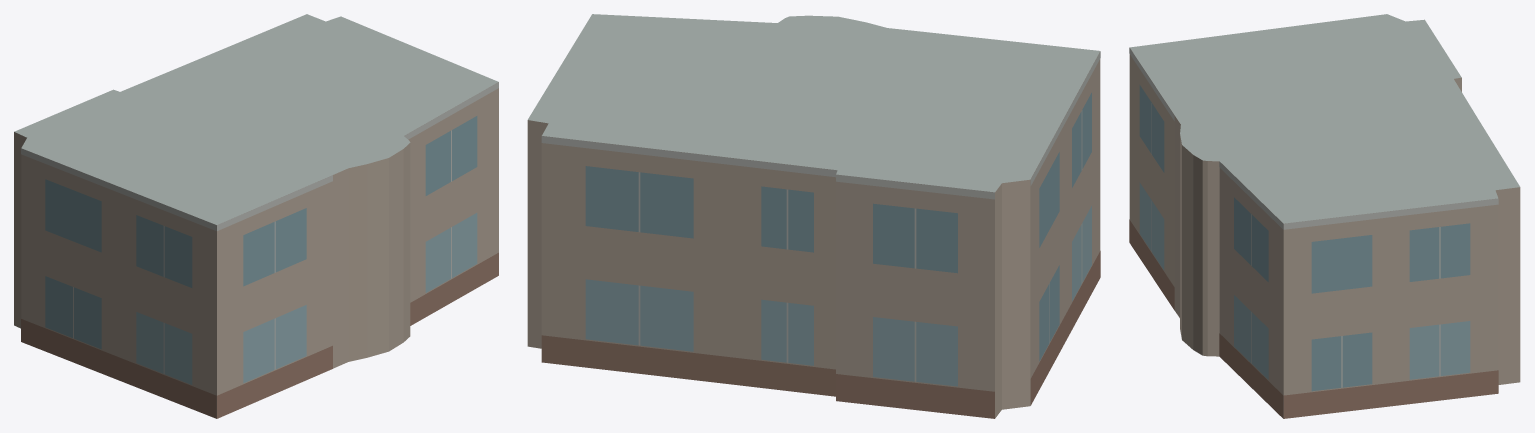
The model's file is survey-upis-32623680.glb.
The picture shows the model from 3 angles, left to right: view 1: azimuth 30°, elevation 25°; view 2: azimuth 150°, elevation 25°; view 3: azimuth 270°, elevation 25°; orthographic projection. The views are drawn at different scales.
Parts seen in each view (by area): view 1: survey-upis-32623680.tmp; view 2: survey-upis-32623680.tmp; view 3: survey-upis-32623680.tmp.
Part boxes in pixels (box(x1,y1,x2,y2)): survey-upis-32623680.tmp: box(14, 14, 498, 418); survey-upis-32623680.tmp: box(527, 14, 1100, 418); survey-upis-32623680.tmp: box(1129, 14, 1520, 418).
Bounding box in the file's own units: 17.74 × 7.7 × 13.98.
